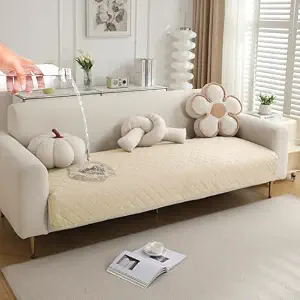3seatersofa: (2, 83, 287, 259)
backrest: (6, 88, 201, 153)
leftarmrest: (237, 114, 287, 179)
leg: (30, 237, 34, 258), (268, 182, 272, 197)
pillow: (186, 84, 241, 136), (117, 113, 186, 151), (28, 133, 84, 168)
rightarmrest: (0, 134, 47, 238)
seat: (40, 138, 280, 231)
